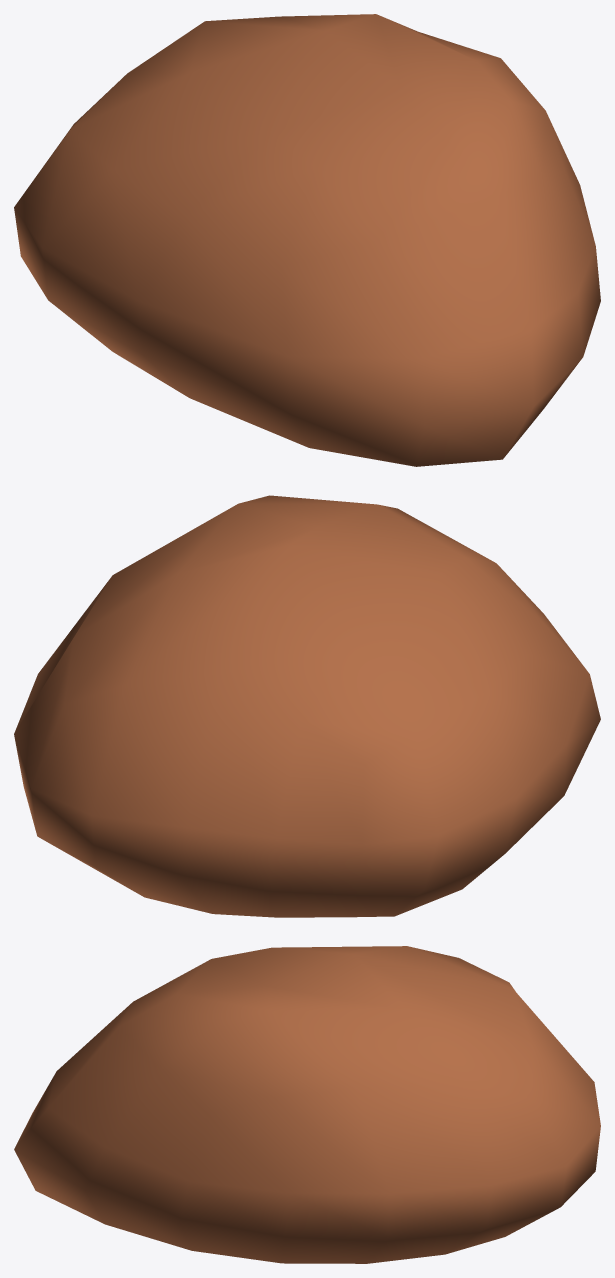
File: clay.glb
The picture shows the model from 3 angles, top to bottom: view 1: azimuth 30°, elevation 25°; view 2: azimuth 150°, elevation 25°; view 3: azimuth 270°, elevation 25°; orthographic projection. The views are drawn at different scales.
Visible parts, largest first — view 1: clay; view 2: clay; view 3: clay.
Boxes of the visible parts, x1=… form: clay: x1=14, y1=14, x2=600, y2=466; clay: x1=14, y1=495, x2=600, y2=917; clay: x1=14, y1=946, x2=600, y2=1263.
Size of the model in its own units: 0.2767 by 0.1551 by 0.342.
Materials: 1 (1 with a texture image).
